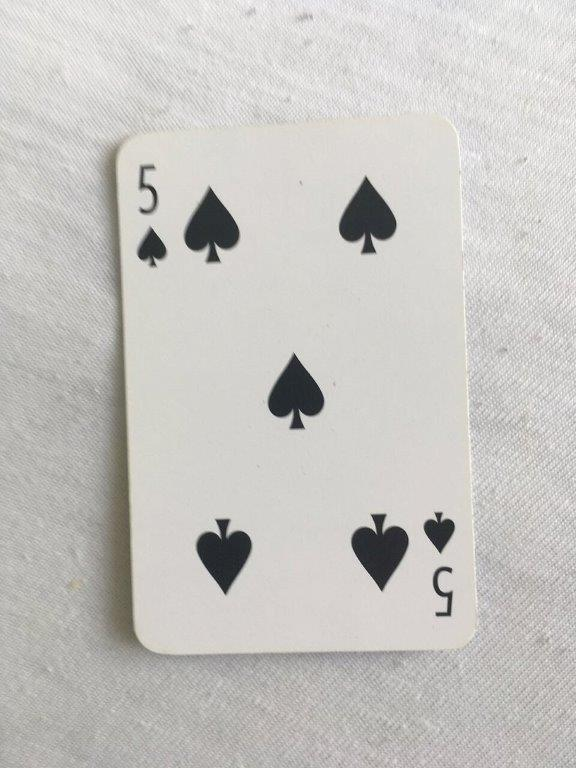5S: (111, 109, 483, 659)
